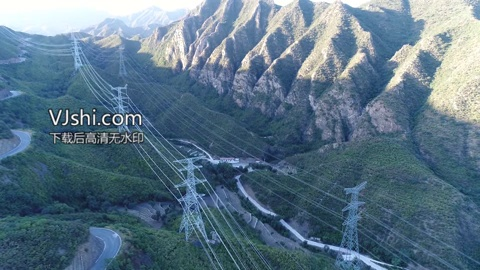tower_body: (327, 172, 374, 270), (169, 154, 217, 244)
tower_foot: (176, 213, 210, 240), (337, 238, 361, 267)
tower_head: (172, 156, 210, 172), (340, 178, 368, 196)
